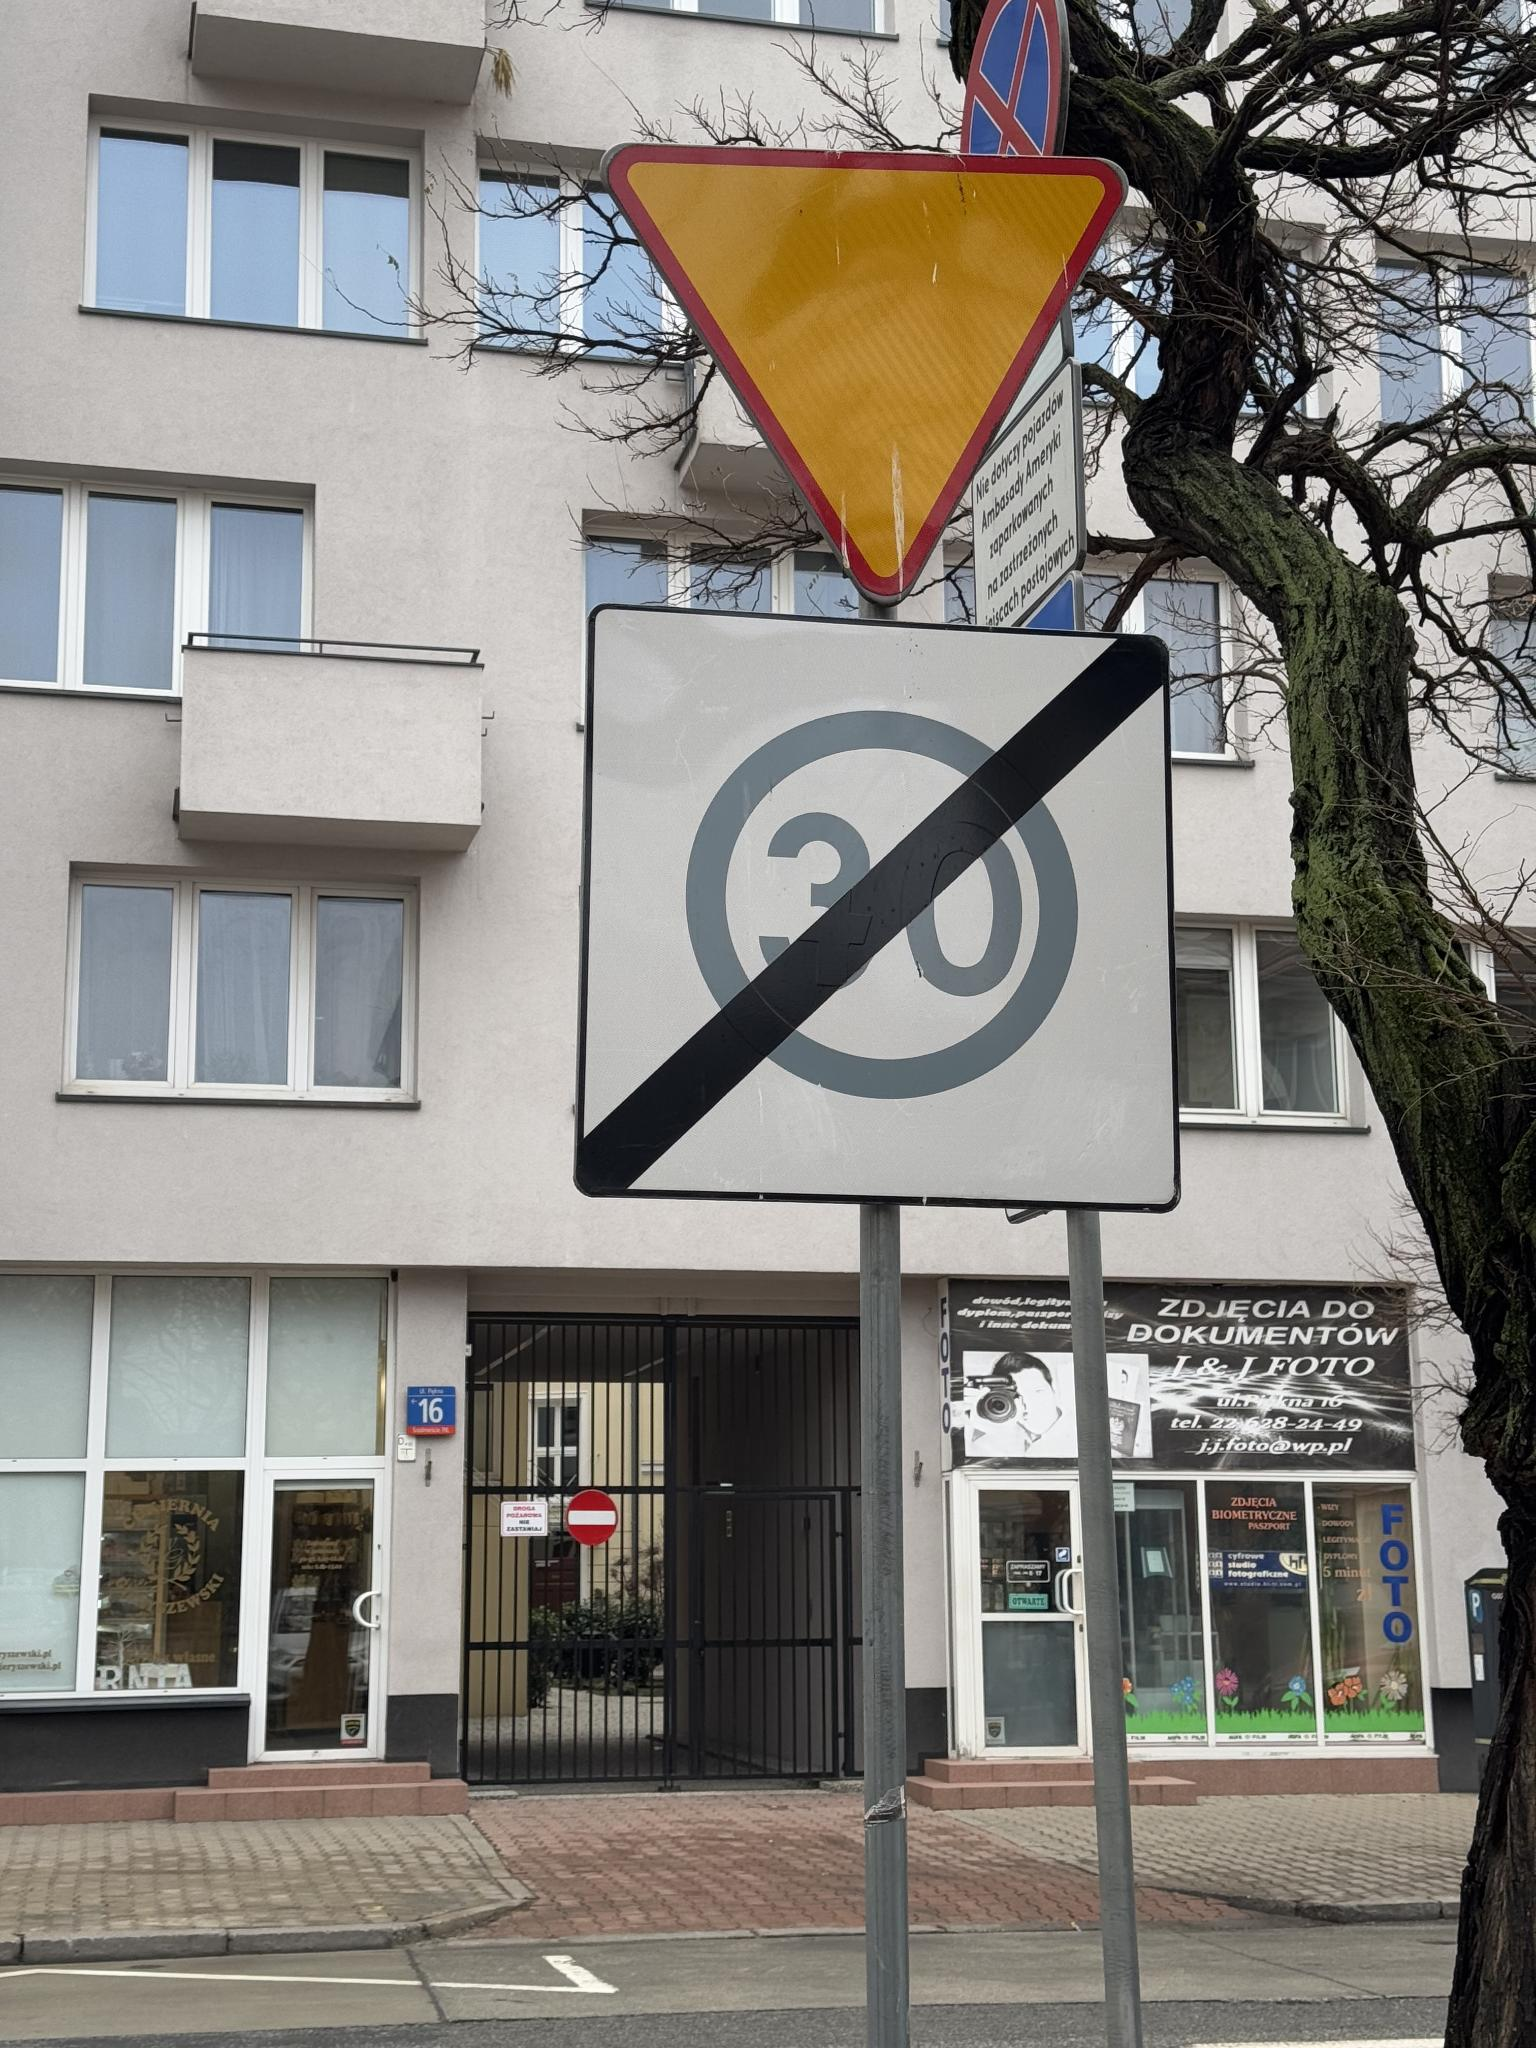prohibitory: (681, 701, 1081, 1103), (960, 0, 1073, 155), (565, 1488, 620, 1546)
warning: (608, 140, 1131, 610)
